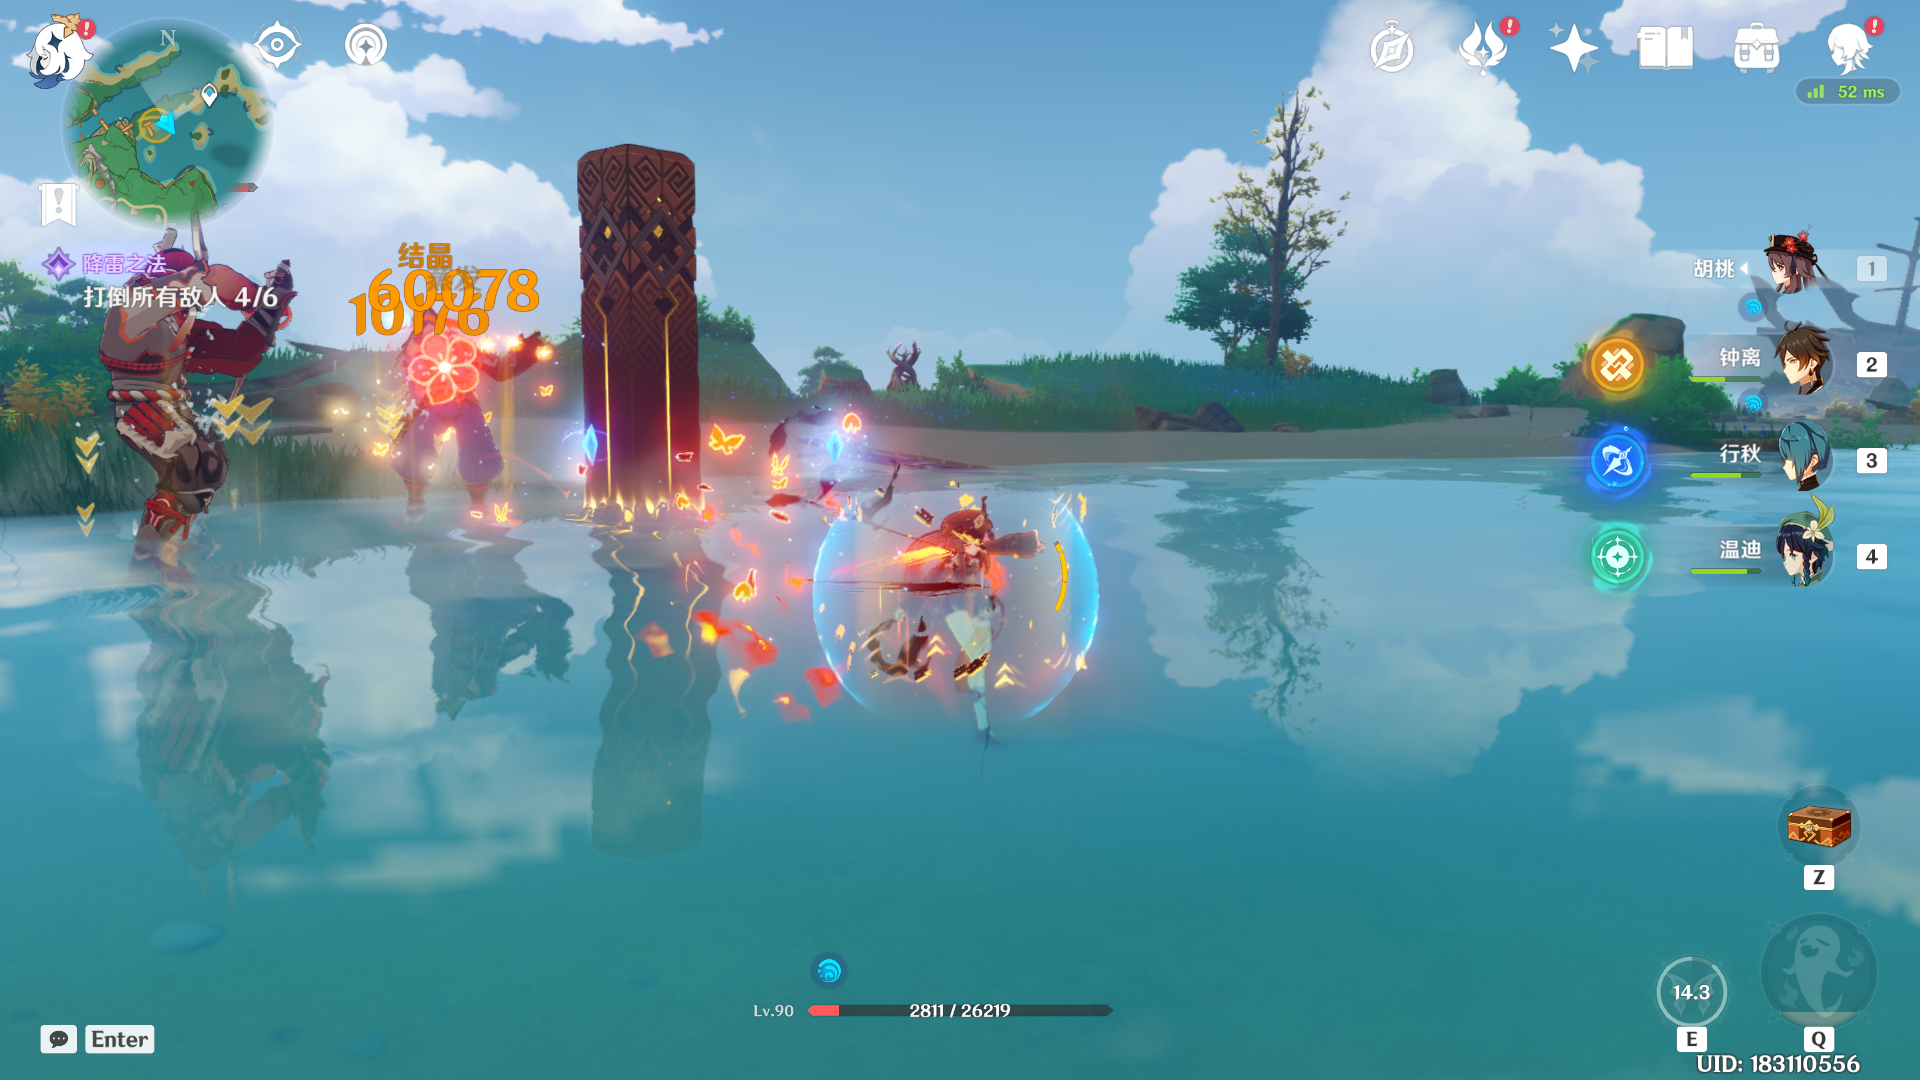character: (833, 435, 1079, 778)
samurai: (58, 208, 313, 641)
